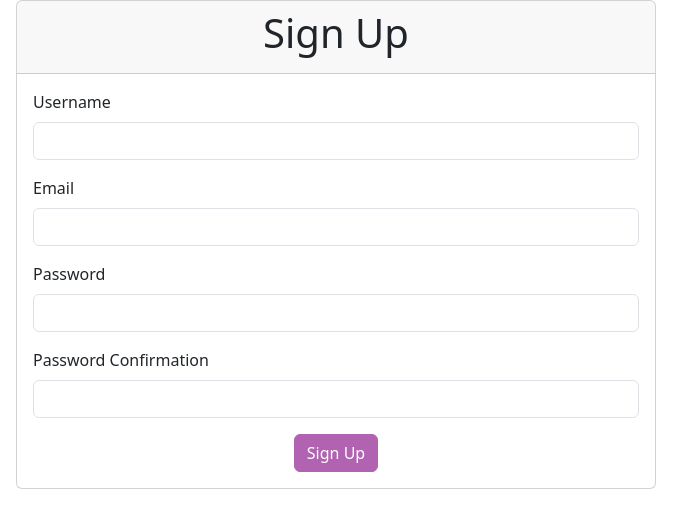
Sign Up › when user set same value for password inputs › when user submit form › when there is an ongoing api call › display spinner
Type "user1" into the field labelled "Username". click: (336, 141)
box: [33,122,639,160]
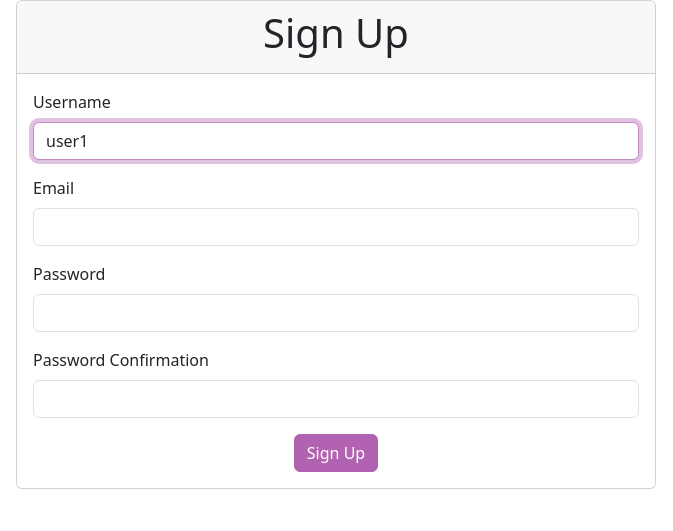
Type "user1@mail.com" into the field labelled "Email". click: (336, 227)
box: [33,208,639,246]
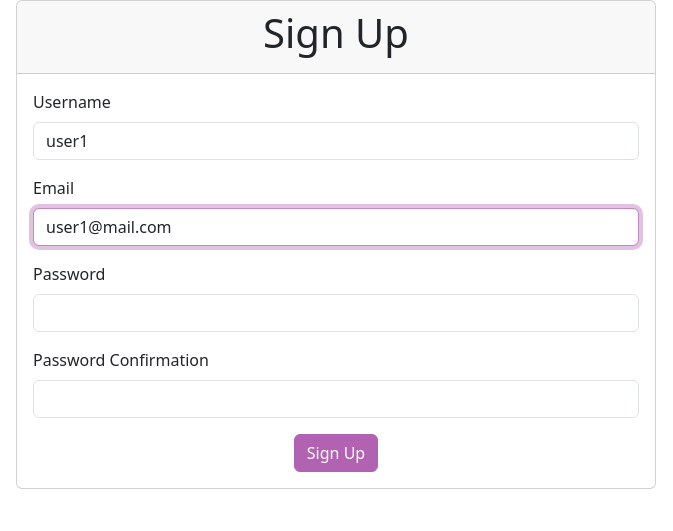
Type "P4ssword" into the password field labelled "Password". click: (336, 313)
box: [33,294,639,332]
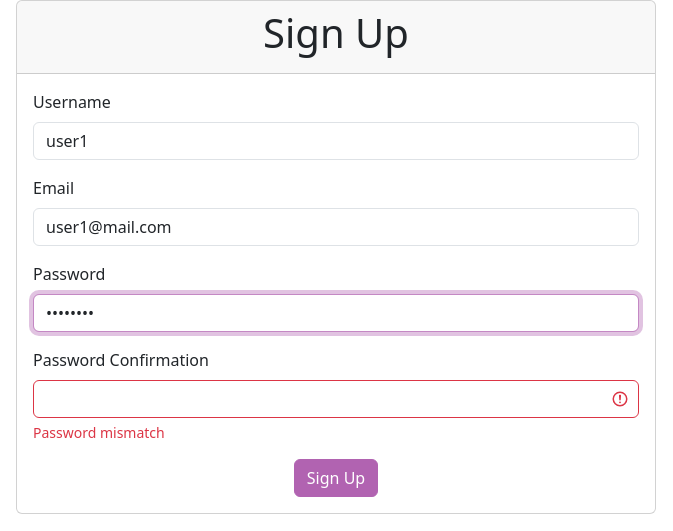
Type "P4ssword" into the password field labelled "Password Confirmation". click: (336, 399)
box: [33,380,639,418]
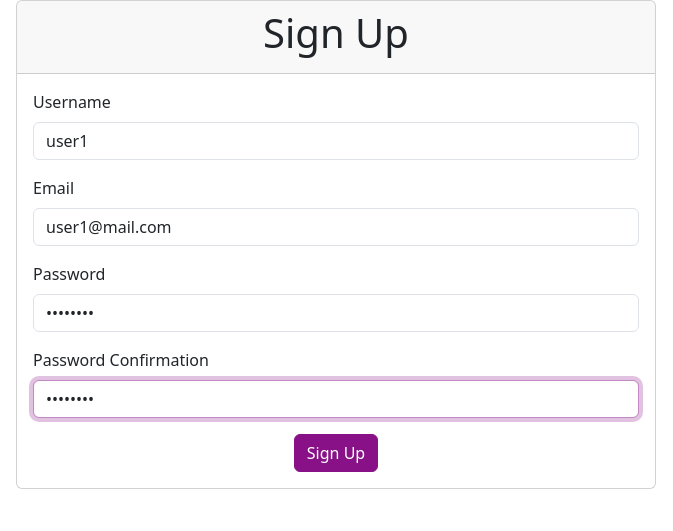
Click the button "Sign Up". click: (336, 453)
box: [294,434,378,472]
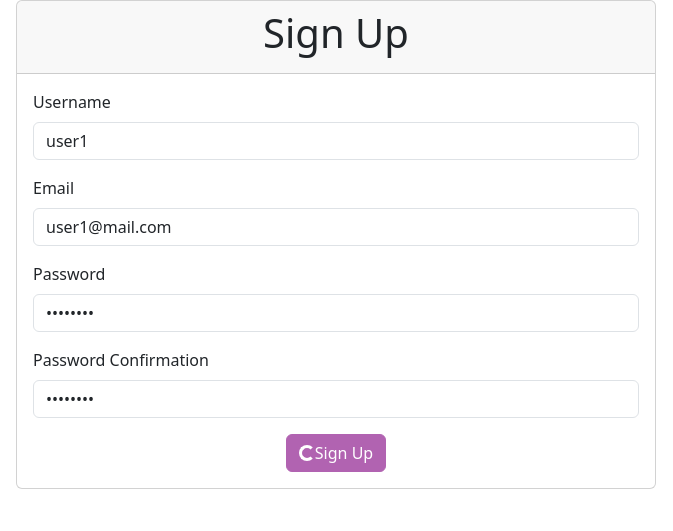
Now the message is shown, box [299,445,315,461]
